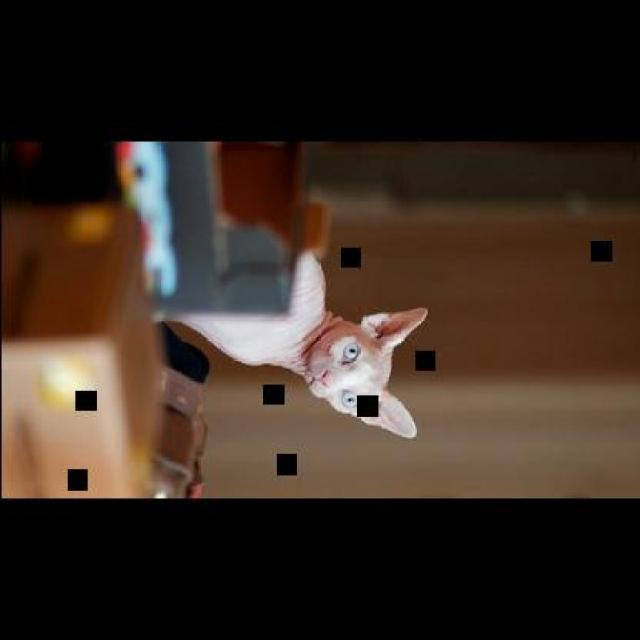unauthorized: (157, 248, 428, 440)
